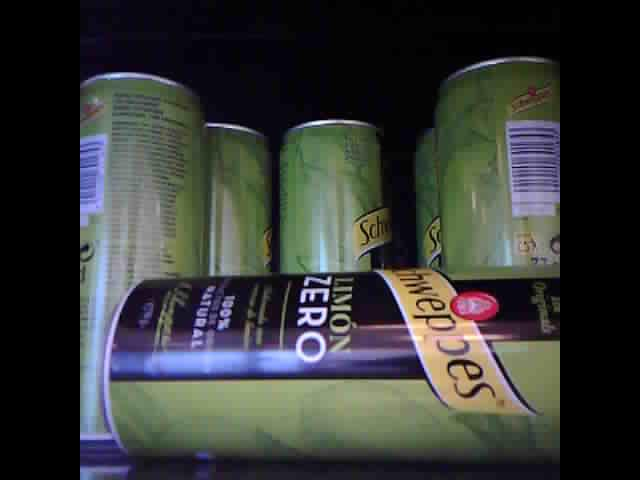schweppes: (95, 257, 559, 468), (79, 74, 203, 443), (428, 50, 560, 280), (284, 106, 394, 283), (203, 118, 274, 282)
